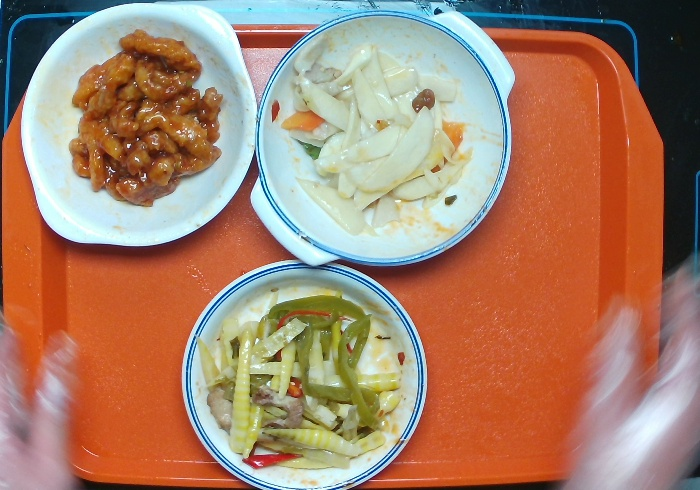HZYJPL-Dai_Er_Bai_Yuan_Wan: (19, 1, 260, 248)
HZYJPL-Lan_Bian_Dai_Er_Wan: (247, 9, 516, 268)
HZYJPL-Lan_Bian_Yuan_Die: (179, 258, 429, 490)
